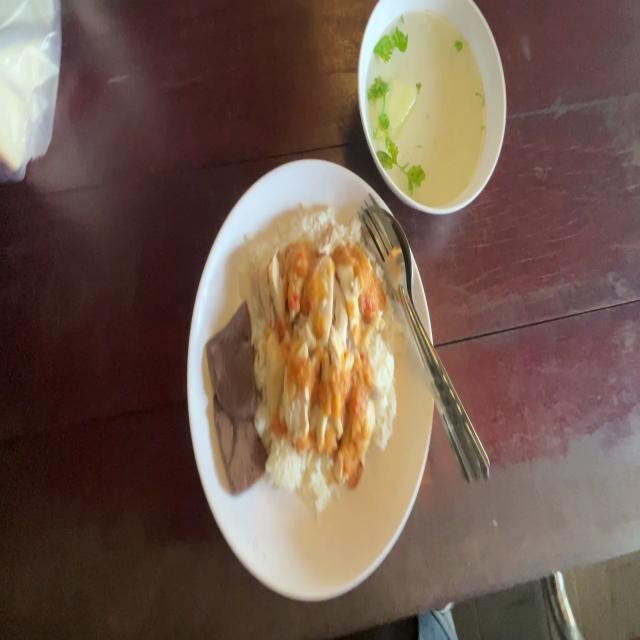boiled_chicken_blood_jelly: (269, 245, 376, 448), (204, 377, 265, 487), (209, 307, 257, 417)
chicken_rice: (208, 210, 396, 501)
